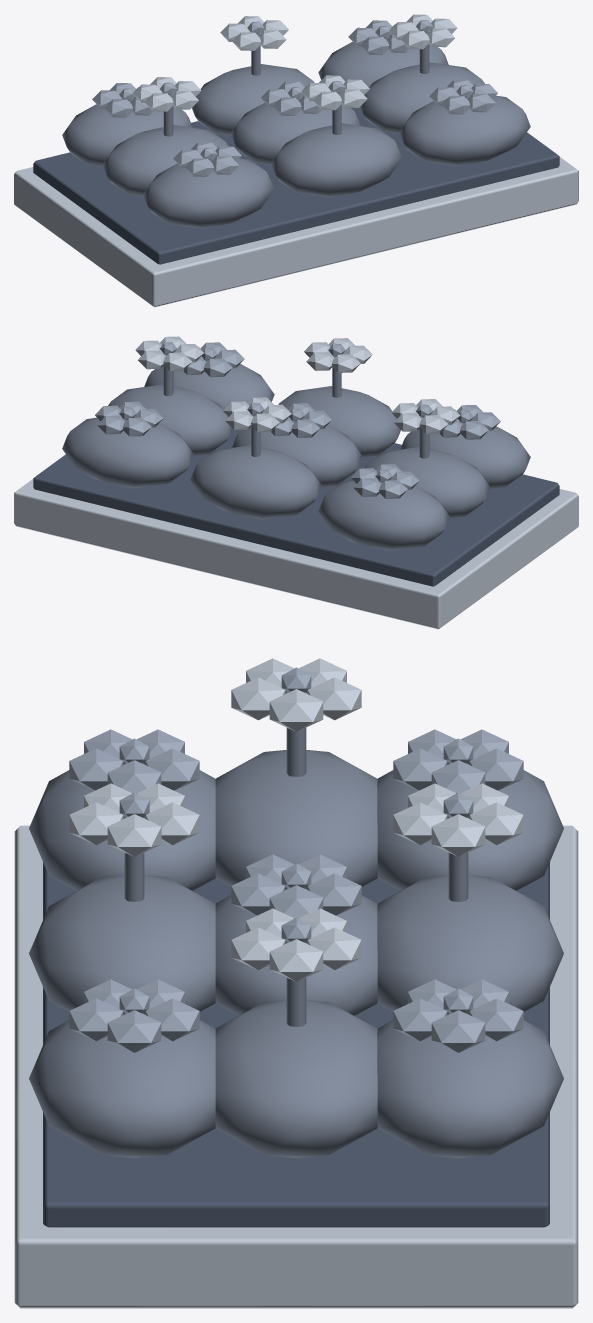
Rendered from 花坛-lite.glb.
3 views of the same model, one above another, from view 1: azimuth 30°, elevation 25°; view 2: azimuth 150°, elevation 25°; view 3: azimuth 270°, elevation 25° (orthographic). The views are drawn at different scales.
Parts seen in each view (by area): view 1: garden-flowerbed; view 2: garden-flowerbed; view 3: garden-flowerbed.
Boxes of the visible parts, left/top/right/bottom form: garden-flowerbed: left=14, top=14, right=578, bottom=307; garden-flowerbed: left=14, top=336, right=578, bottom=629; garden-flowerbed: left=14, top=658, right=578, bottom=1308.
Bounding box in the file's own units: 1.4 × 0.48 × 0.8.
